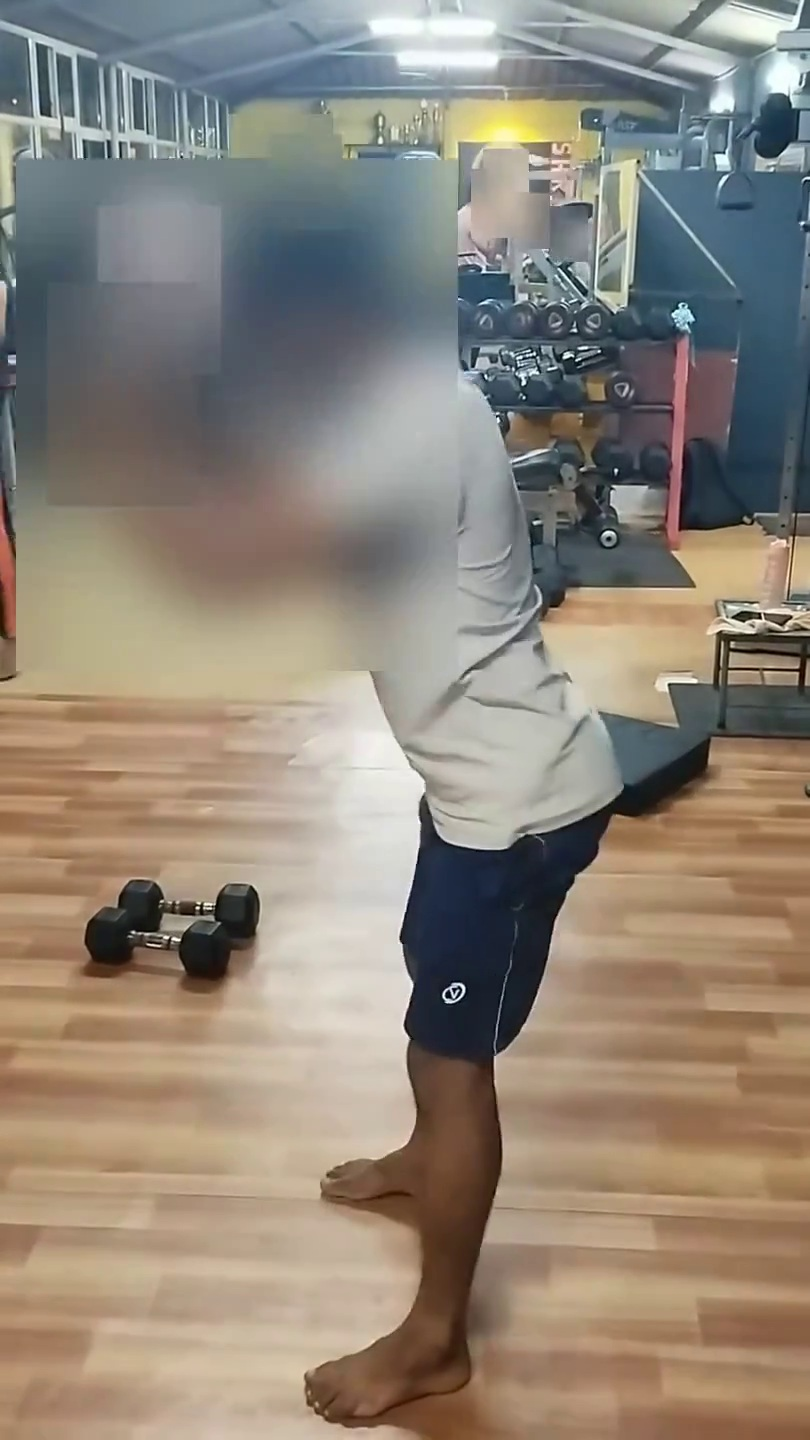squat: (502, 834, 523, 851)
